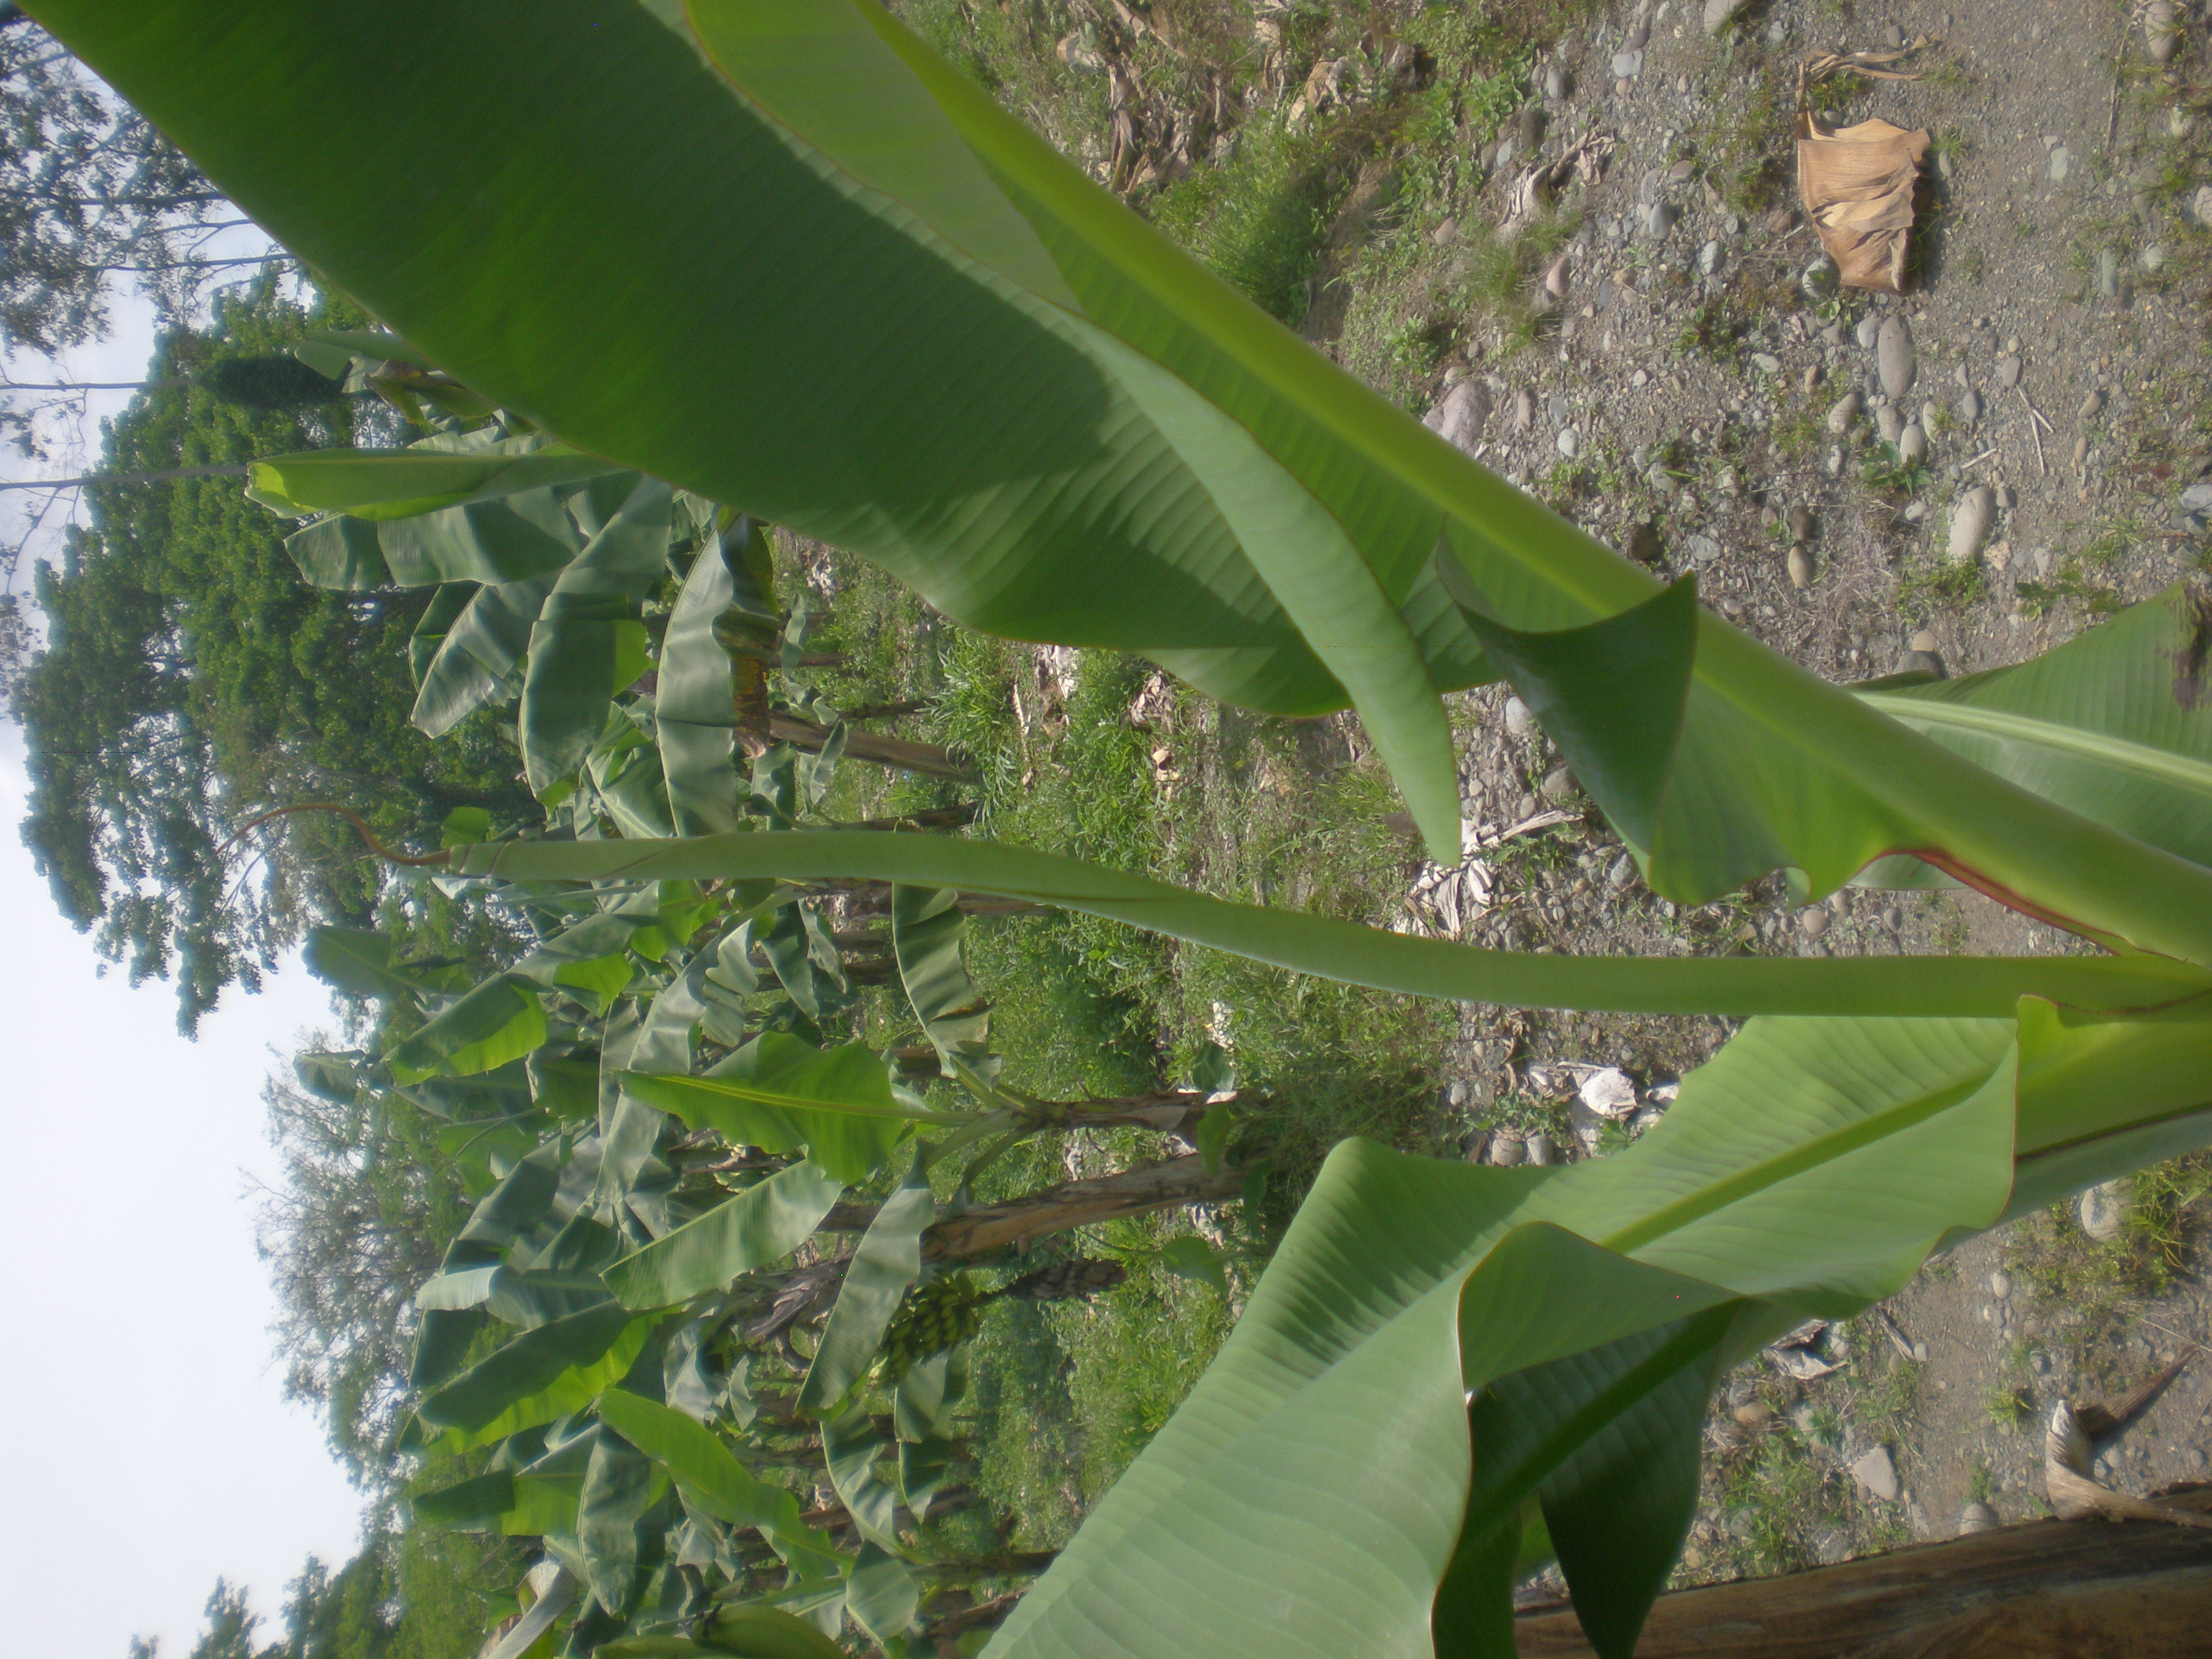candleleafs: (258, 800, 2005, 1033)
